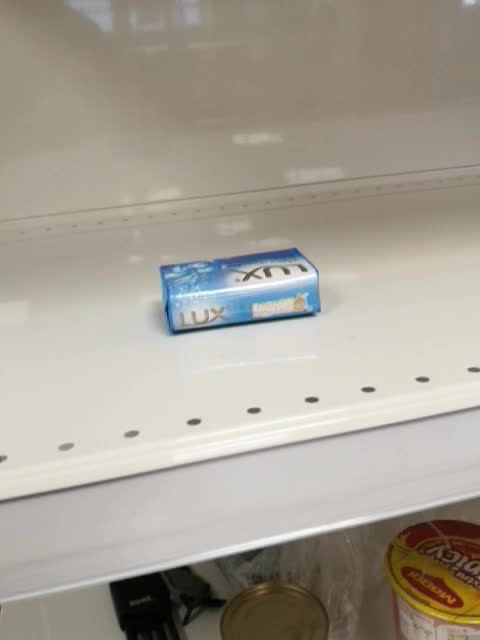soap: (156, 247, 322, 337)
